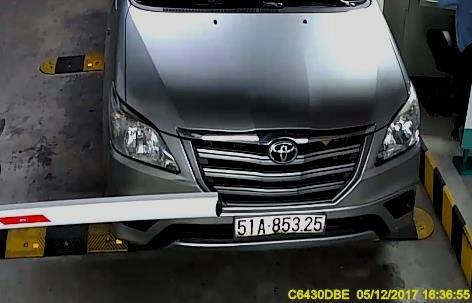plate: (232, 214, 326, 238)
